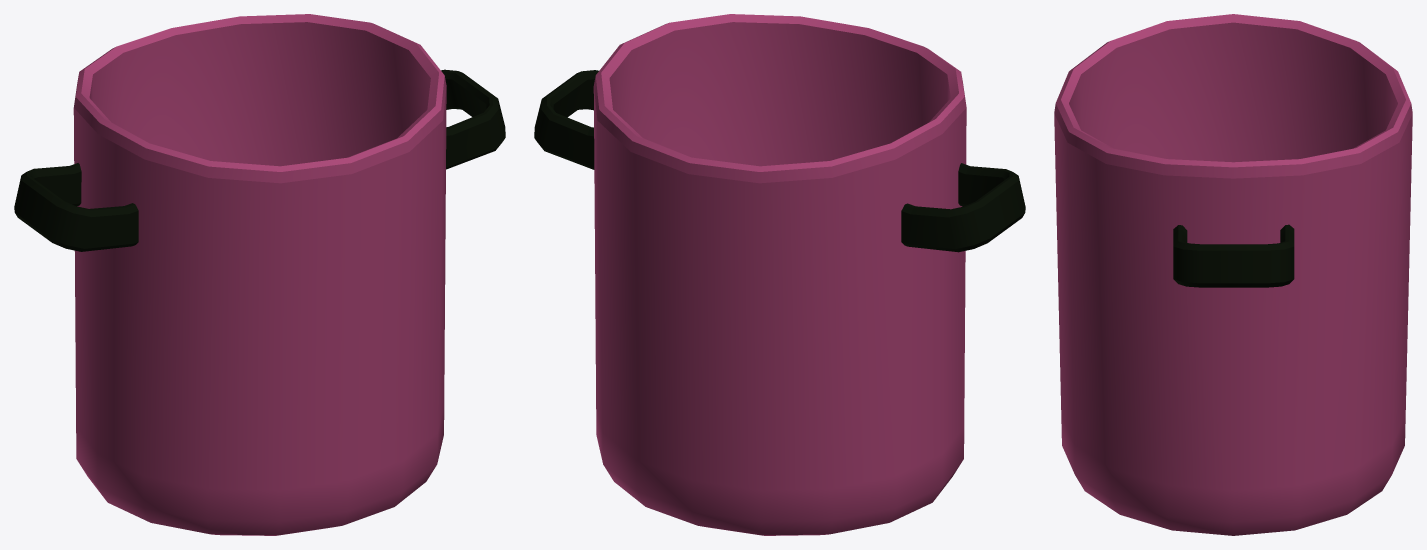
Rendered from Pan.FBX.
3 views of the same model, side by side, from view 1: azimuth 30°, elevation 25°; view 2: azimuth 150°, elevation 25°; view 3: azimuth 270°, elevation 25° (orthographic). The views are drawn at different scales.
Parts seen in each view (by area): view 1: Pan; view 2: Pan; view 3: Pan.
Part boxes in pixels (bbox=[...]): Pan: bbox=[14, 14, 505, 535]; Pan: bbox=[534, 14, 1025, 535]; Pan: bbox=[1054, 14, 1412, 535].
Size of the model in its own units: 1108 by 773 by 918.
